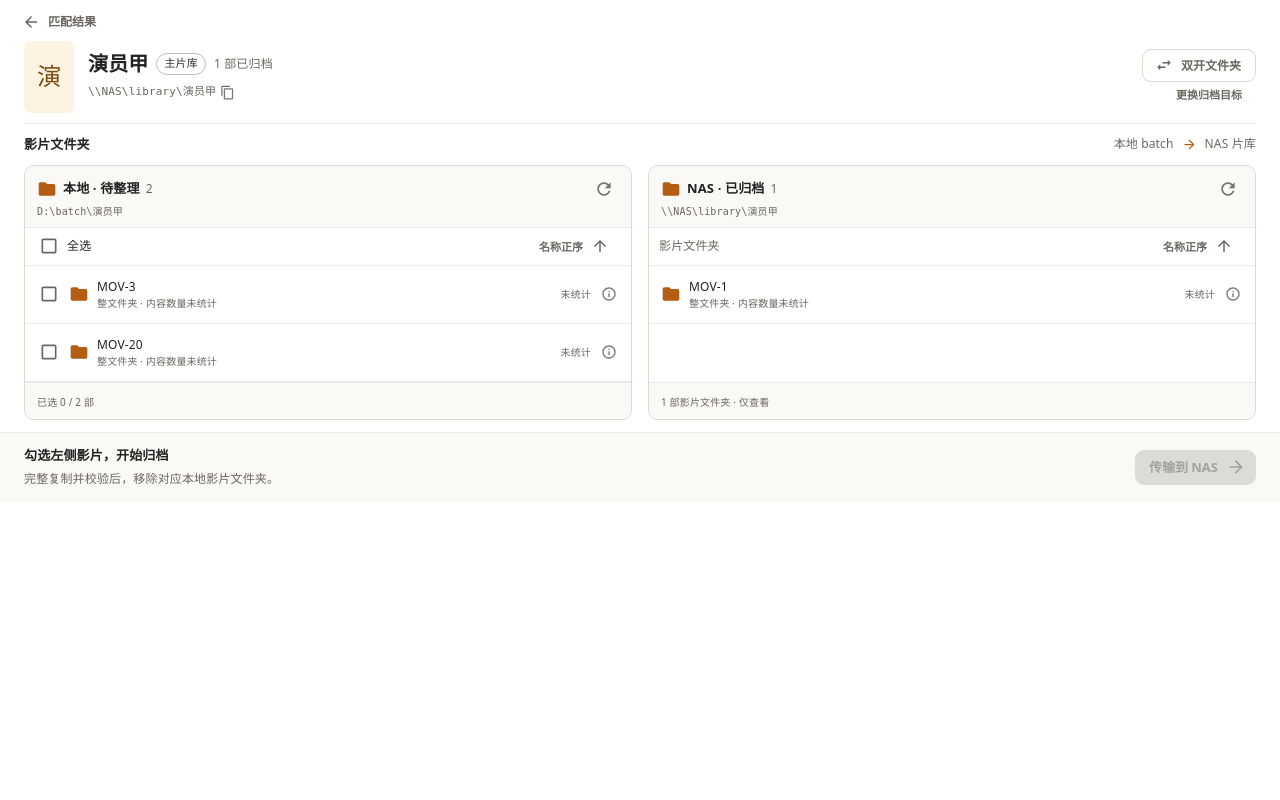
it: archive transfer › reuses validated pair opening and exposes the full target path
The image size is (1280, 800).
Expected: the checkbox named "选择 MOV-3" is shown, [37, 277, 591, 311]
What coordinates should you click on to do the following:
click the button "双开文件夹"
I would click on:
 (1199, 65)
Its box is [1142, 48, 1256, 82].
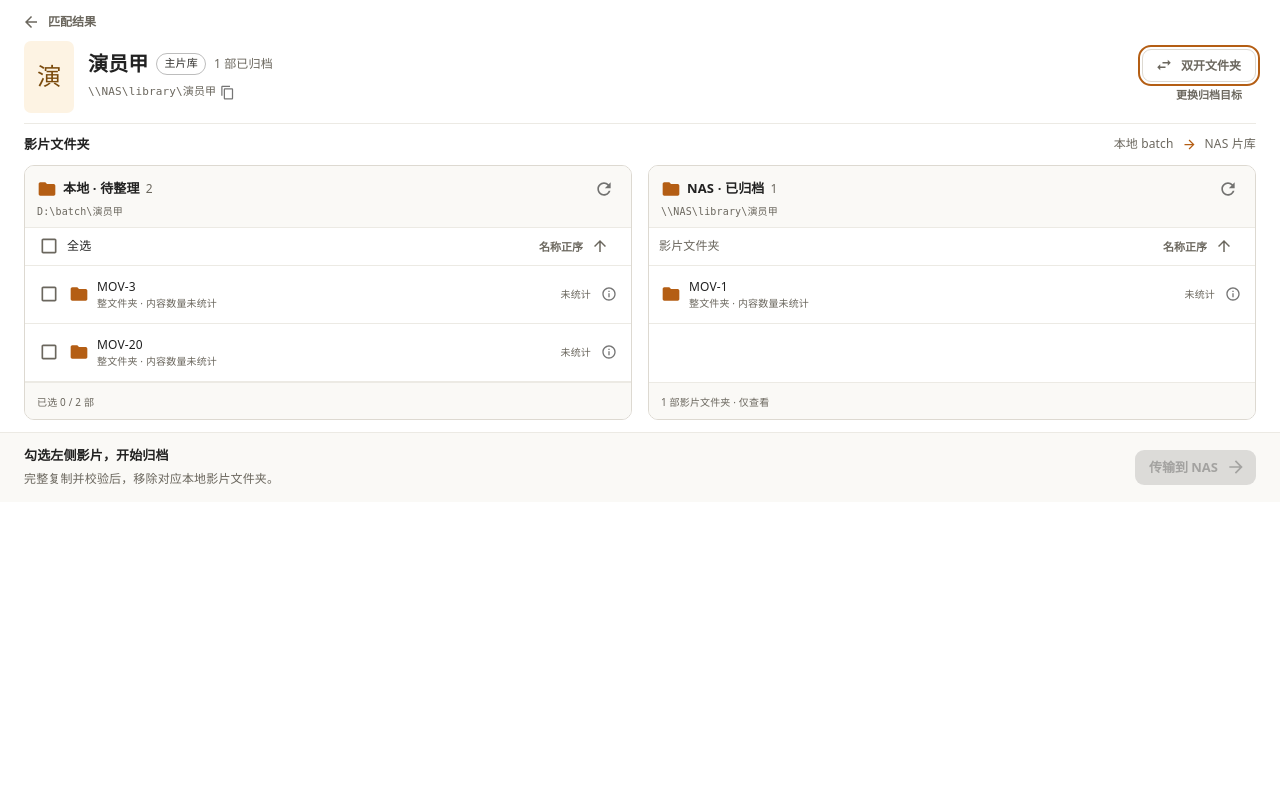
What coordinates should you click on to do the following:
click the button named "查看并复制完整路径"
I would click on:
 (228, 92)
Its box is [216, 80, 239, 104].
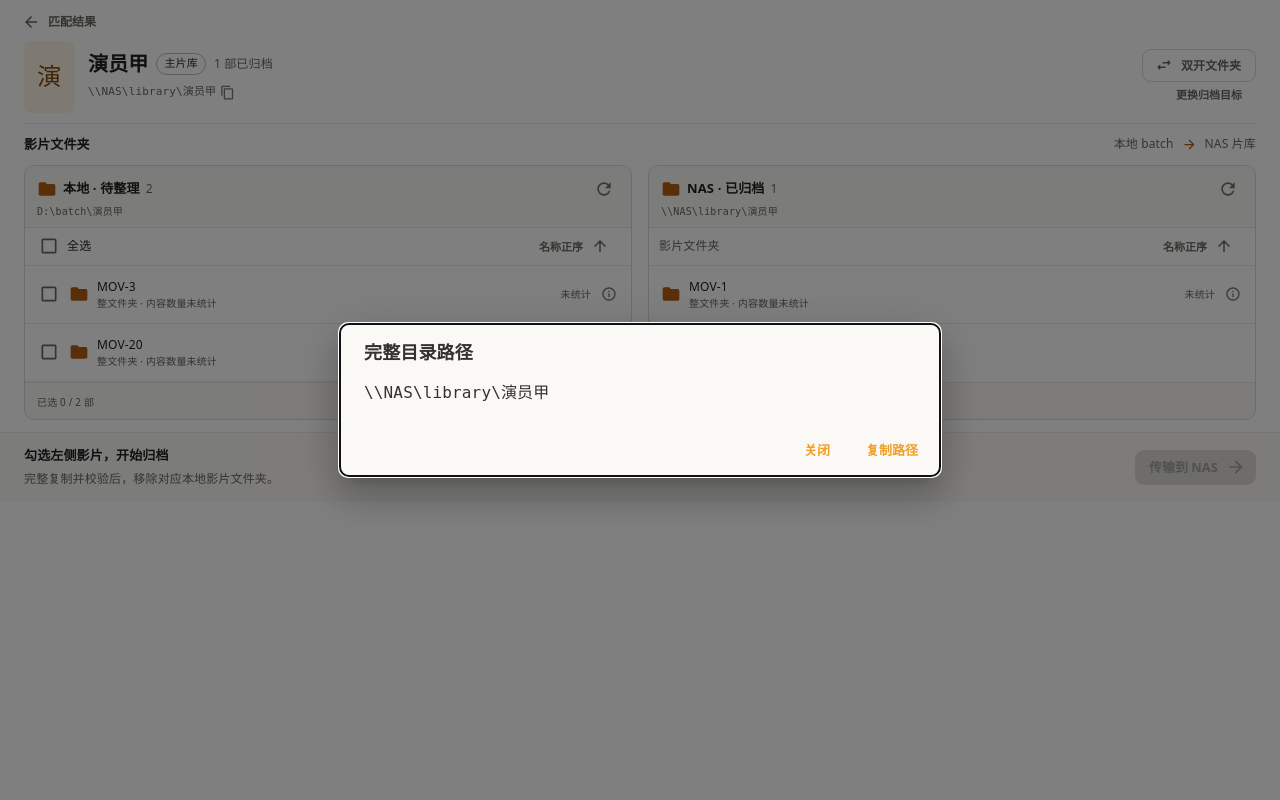
Expected: the text "\\\\NAS\\library\\演员甲" is shown, [364, 383, 549, 402]
